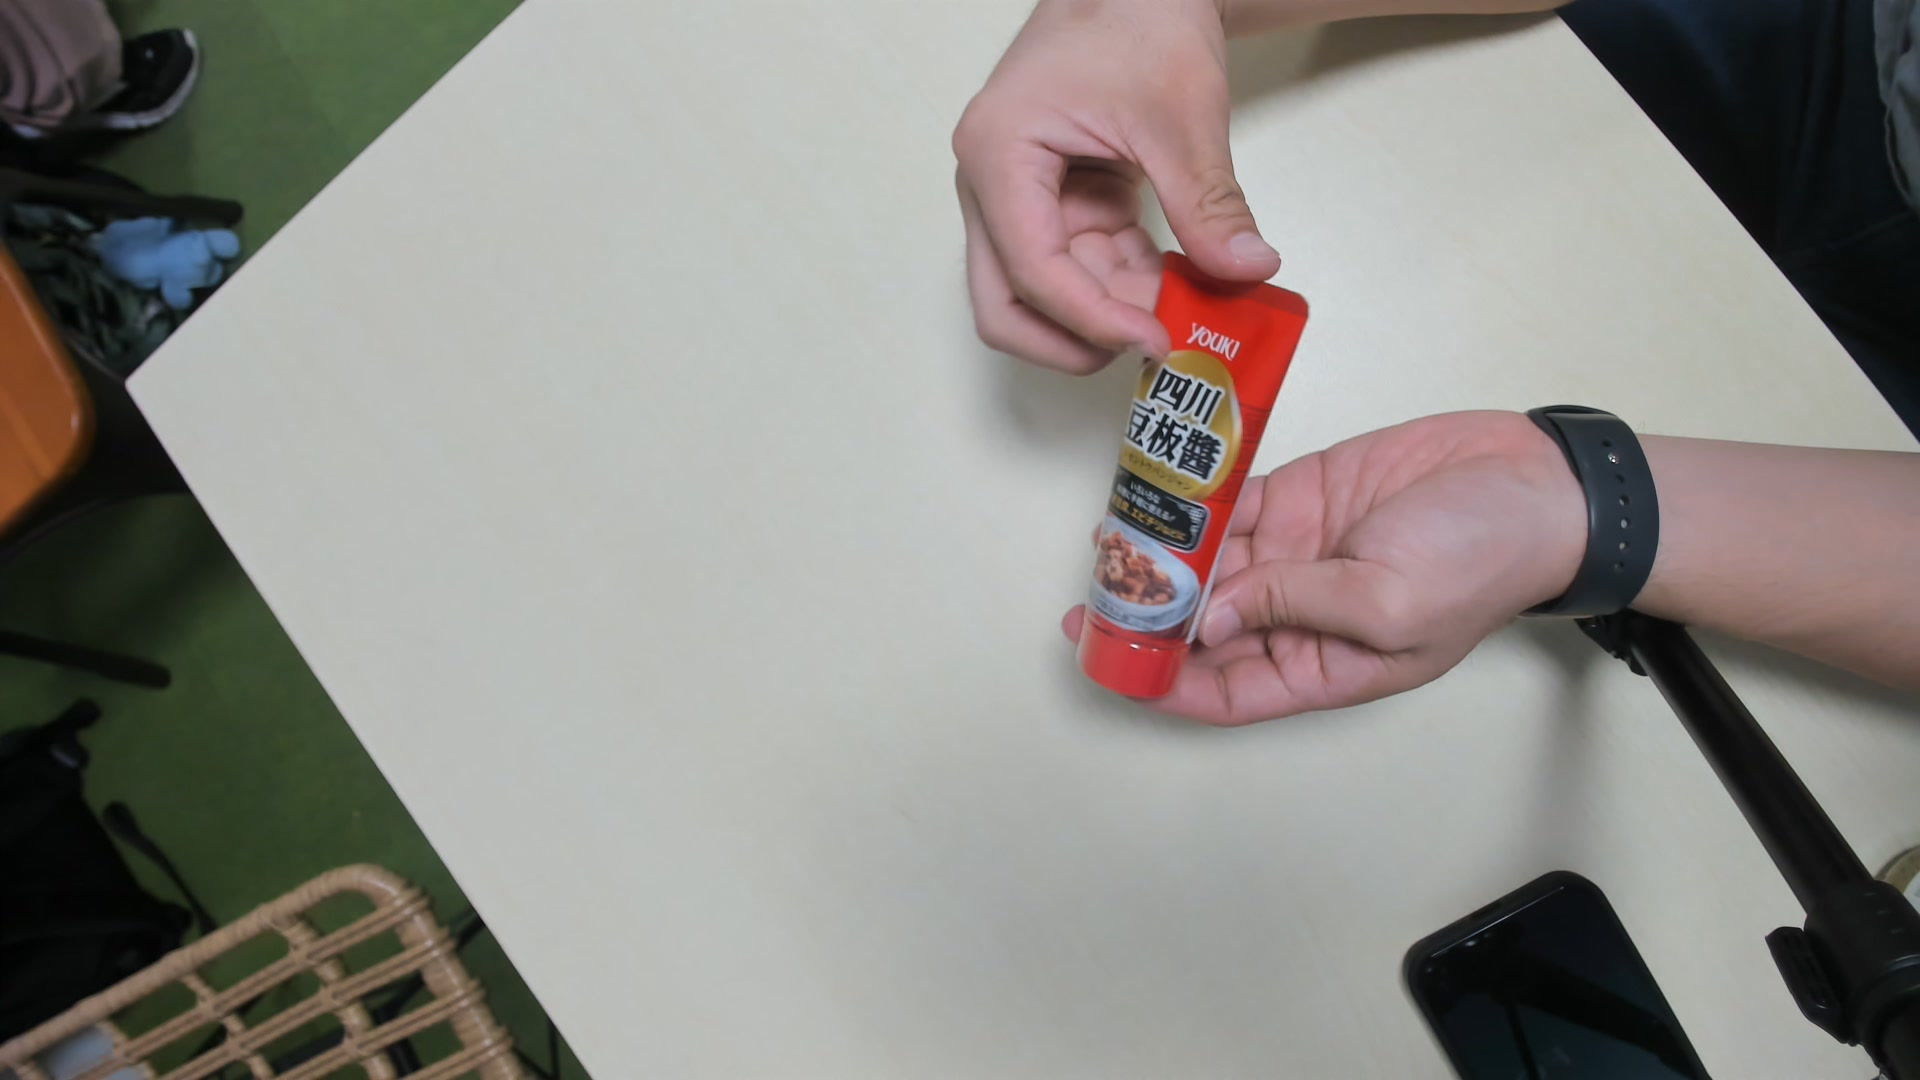OtherSauceDressing_100-199g_NonHalal_NonHealthy: (1079, 237, 1303, 698)
